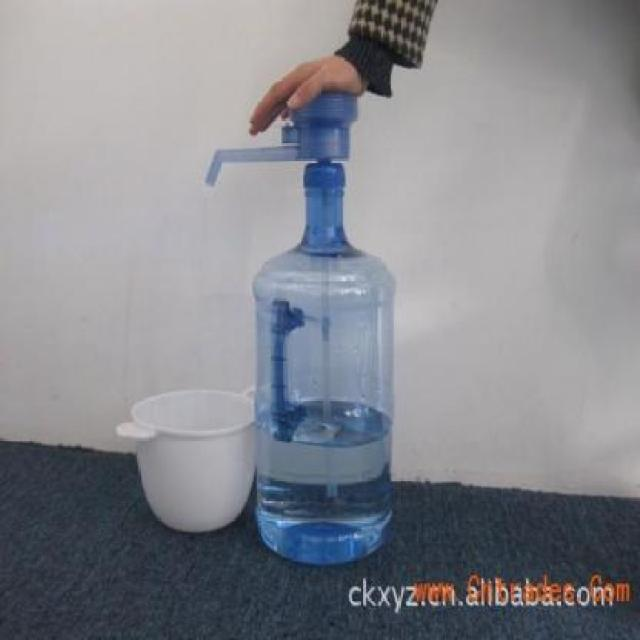coolerbottle: (251, 157, 397, 571)
